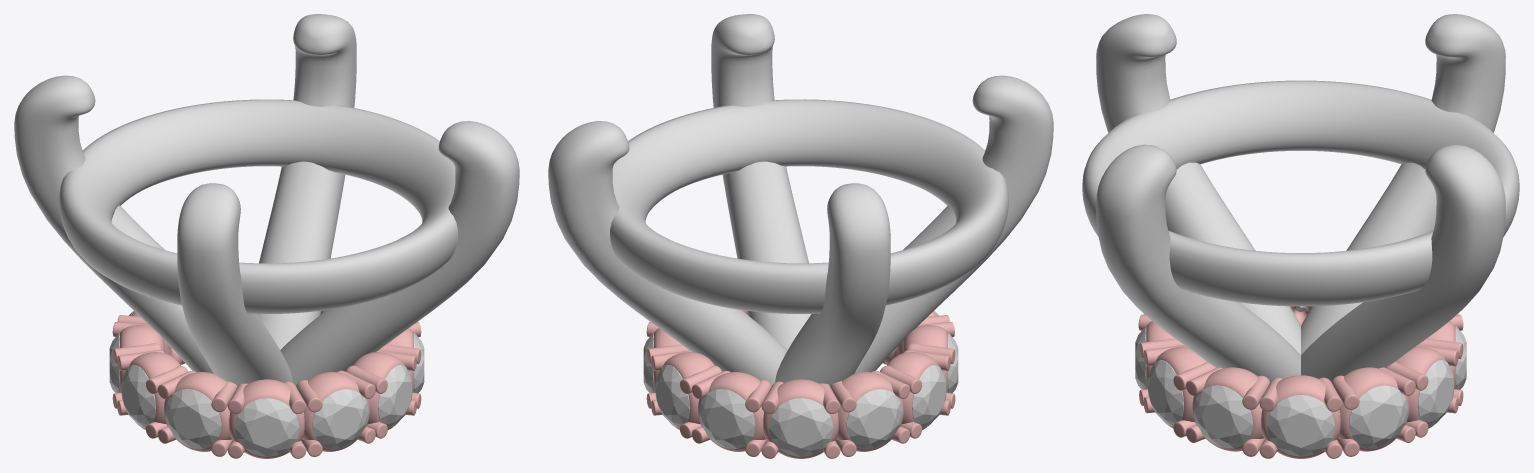
File: HIDDEN-HALO.glb
3 views of the same model, side by side, from view 1: azimuth 30°, elevation 25°; view 2: azimuth 150°, elevation 25°; view 3: azimuth 270°, elevation 25° (orthographic). The views are drawn at different scales.
Visible parts, largest first — view 1: HIDDEN-HALO, HIDDEN-HALO.METAL, HIDDEN-HALO.GEMSTONES; view 2: HIDDEN-HALO, HIDDEN-HALO.METAL, HIDDEN-HALO.GEMSTONES; view 3: HIDDEN-HALO, HIDDEN-HALO.METAL, HIDDEN-HALO.GEMSTONES.
Part boxes in pixels (left/top/right/bottom): HIDDEN-HALO: left=14, top=14, right=519, bottom=385; HIDDEN-HALO.METAL: left=112, top=310, right=421, bottom=458; HIDDEN-HALO.GEMSTONES: left=109, top=310, right=424, bottom=456; HIDDEN-HALO: left=548, top=14, right=1053, bottom=385; HIDDEN-HALO.METAL: left=646, top=310, right=955, bottom=458; HIDDEN-HALO.GEMSTONES: left=643, top=310, right=958, bottom=456; HIDDEN-HALO: left=1082, top=14, right=1519, bottom=382; HIDDEN-HALO.METAL: left=1138, top=306, right=1463, bottom=458; HIDDEN-HALO.GEMSTONES: left=1135, top=306, right=1466, bottom=456.
Size of the model in its own units: 4.96 by 4.48 by 4.96.
